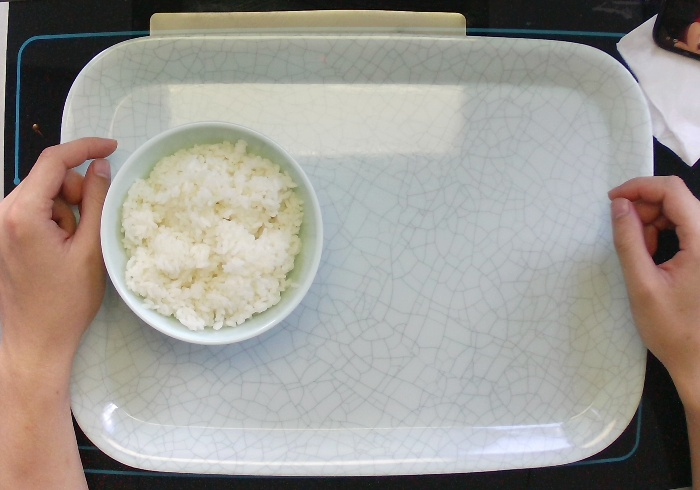JYsf-Fan_Wan: (96, 118, 328, 349)
